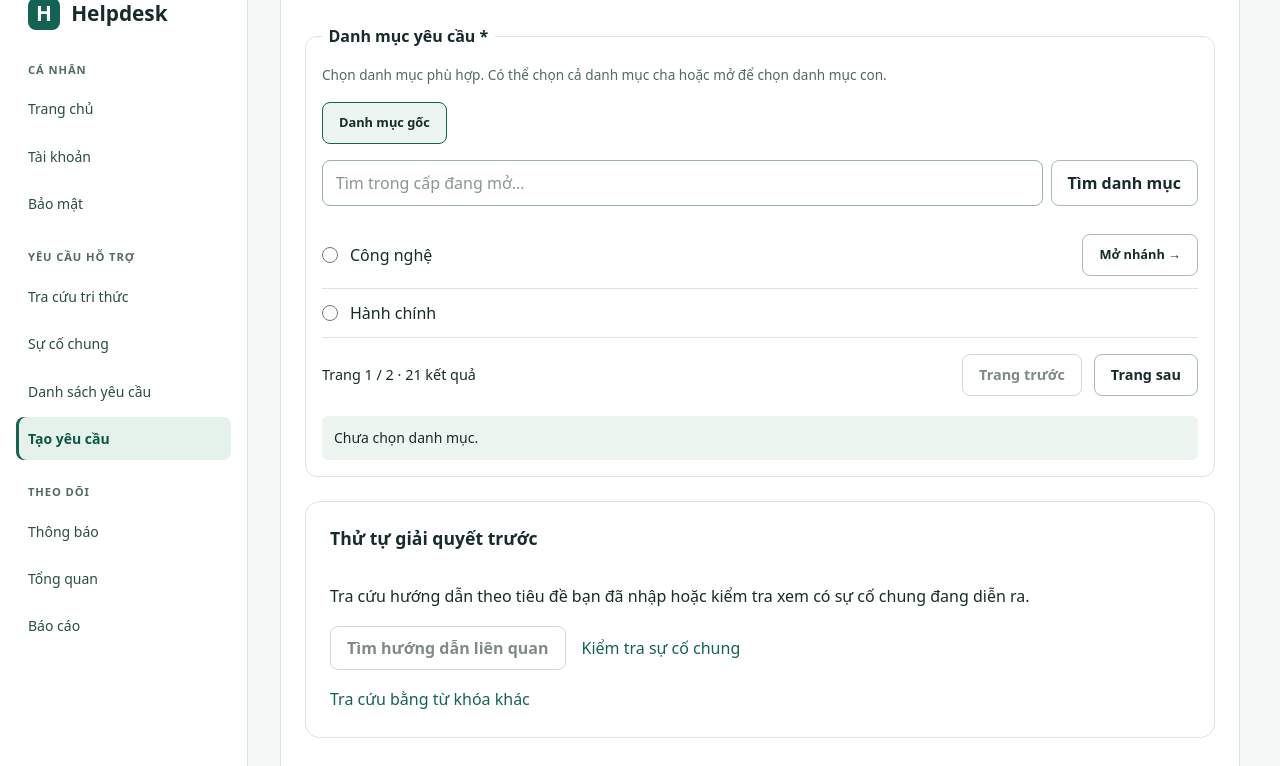
Test: create Ticket routing and paged category picker › loads roots lazily, pages the current branch and opens children only for hasChildren nodes
(page scrolled)
Check: the radio button labelled "Hành chính" is shown, box top-left (322, 305), bottom-right (338, 321)
Step 1. Click the button "Trang sau" → (1146, 375), box top-left (1094, 354), bottom-right (1198, 396)
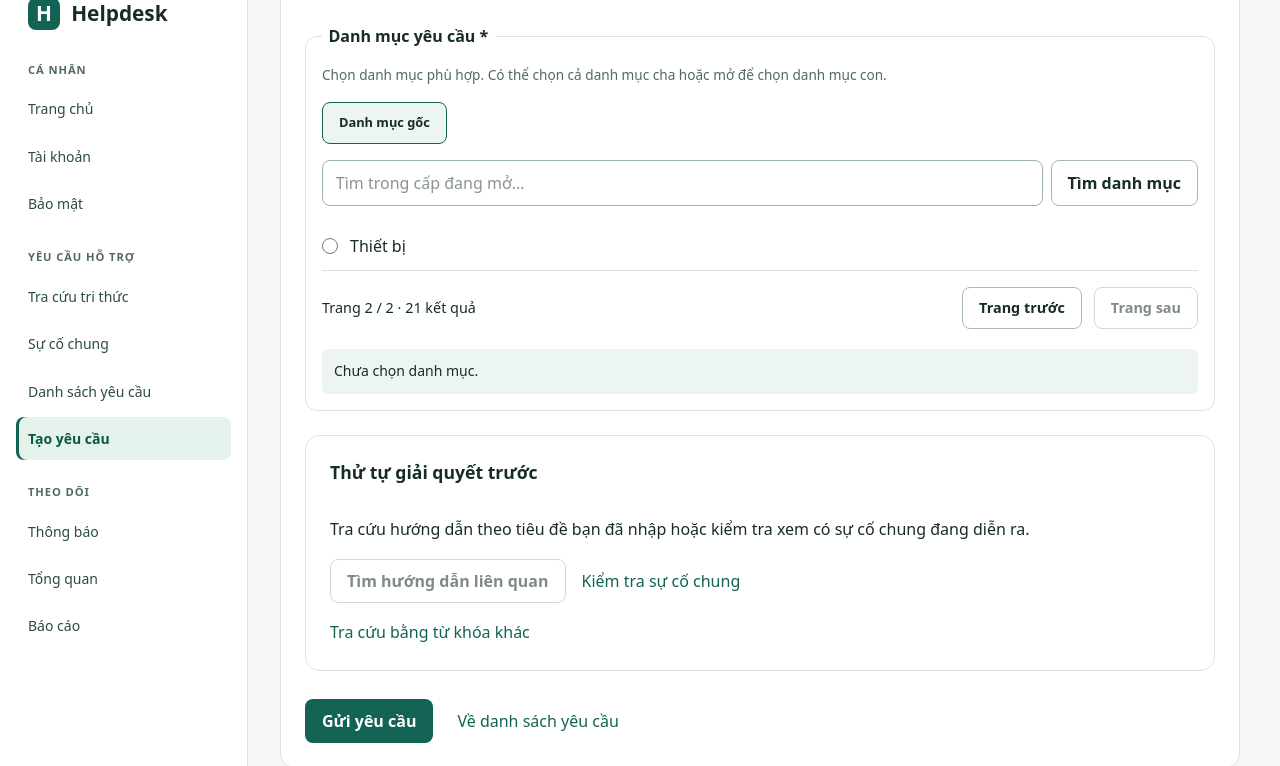
Step 2. Click the radio button labelled "Thiết bị" → (330, 246), box top-left (322, 238), bottom-right (338, 254)
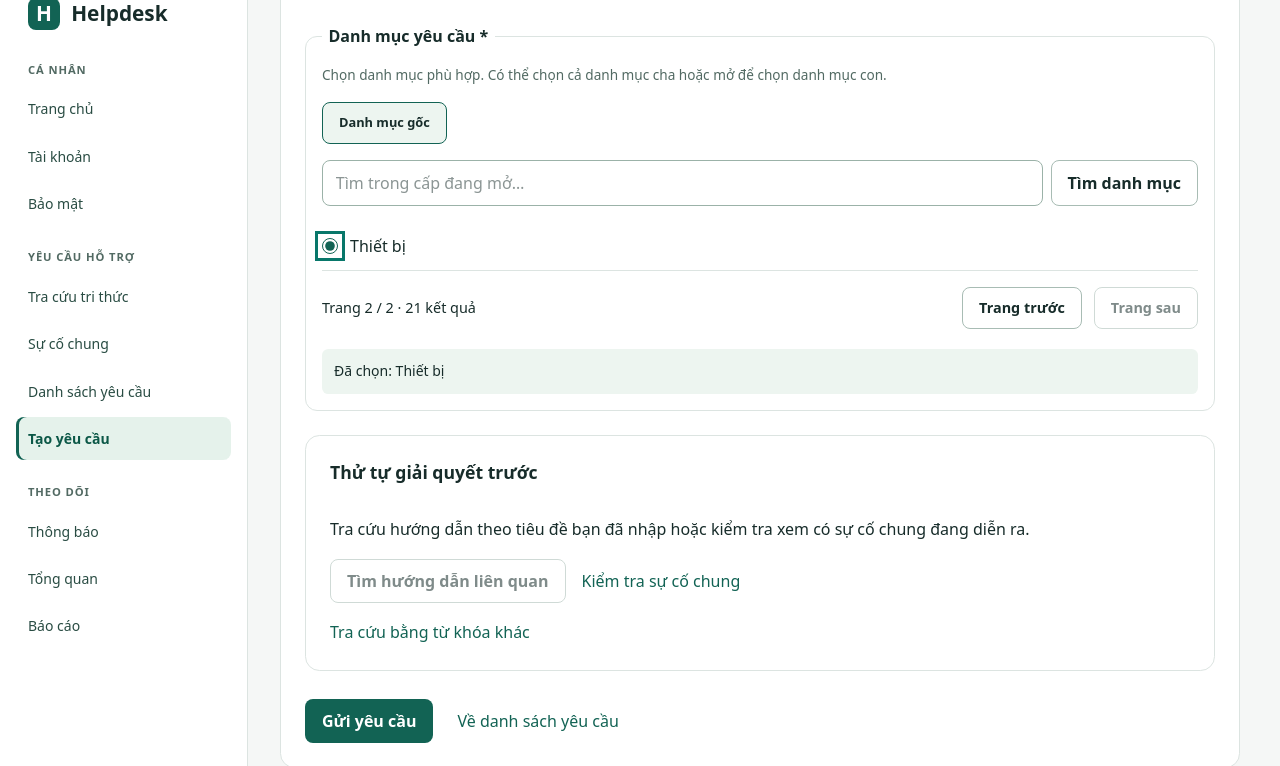
Step 3. Click the button "Danh mục gốc" → (384, 123), box top-left (322, 102), bottom-right (447, 144)
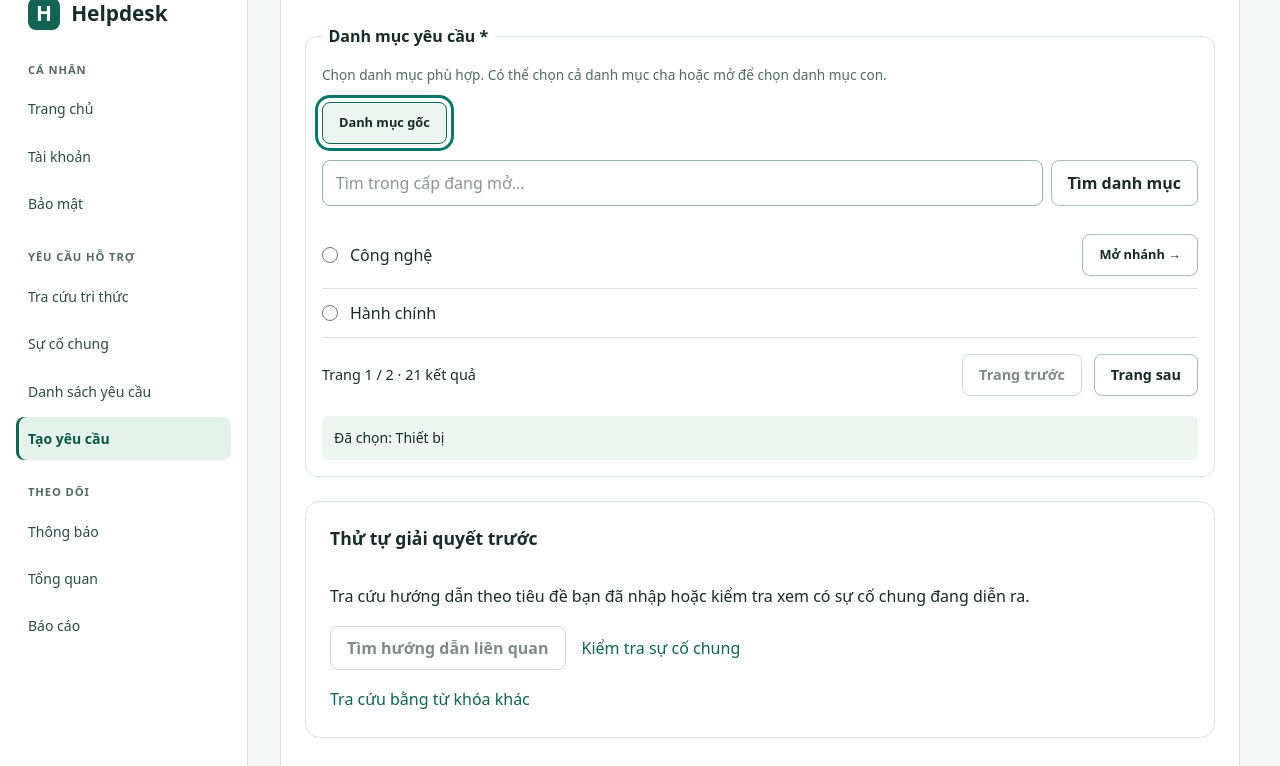
Check: the radio button labelled "Công nghệ" is shown, box top-left (322, 247), bottom-right (338, 263)
Check: the text "Đã chọn: Thiết bị" is shown, box top-left (322, 416), bottom-right (1198, 460)
Step 4. Click the button with aria-label "Mở danh mục Công nghệ" → (1140, 255), box top-left (1082, 234), bottom-right (1198, 276)
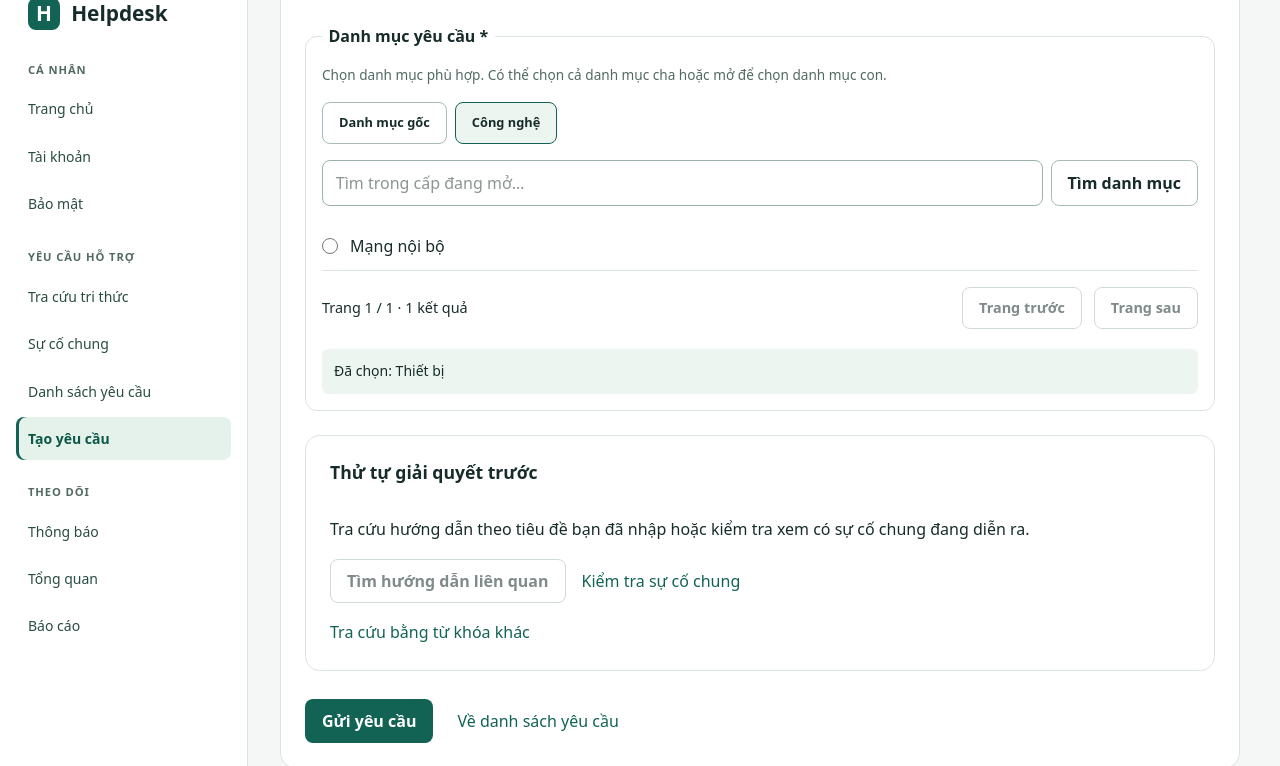
Step 5. Click the radio button labelled "Mạng nội bộ" → (330, 246), box top-left (322, 238), bottom-right (338, 254)
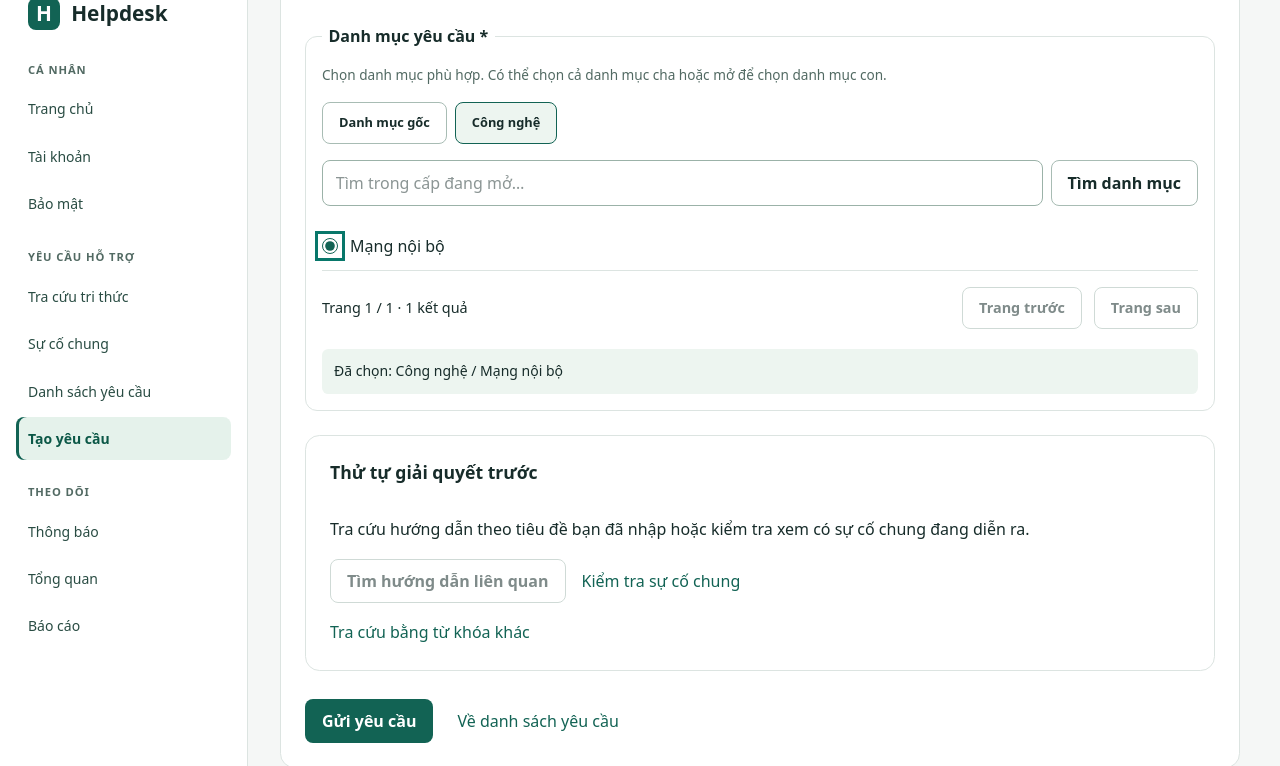
Check: the text "Đã chọn: Công nghệ / Mạng nội bộ" is shown, box top-left (322, 349), bottom-right (1198, 394)
